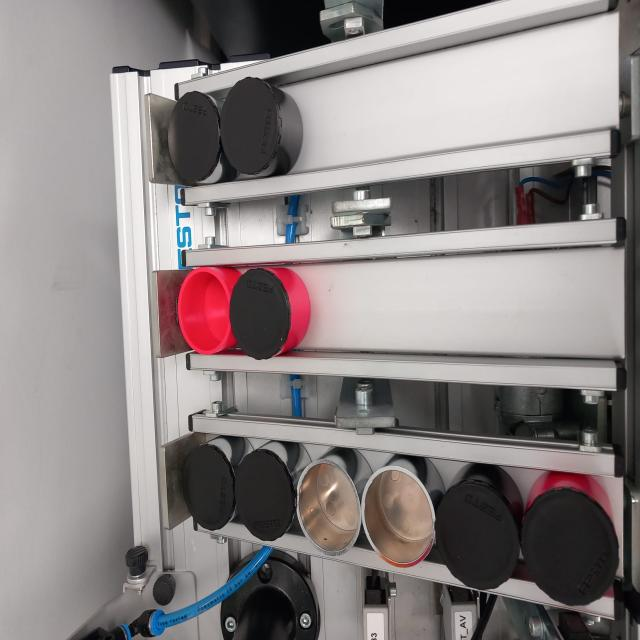NoLid: (365, 448, 439, 574), (294, 439, 360, 576), (168, 253, 236, 363)
Workpiece: (527, 470, 624, 617), (434, 466, 522, 601), (228, 253, 318, 363), (220, 77, 300, 178), (157, 87, 221, 190), (176, 432, 237, 538), (244, 437, 294, 556)
